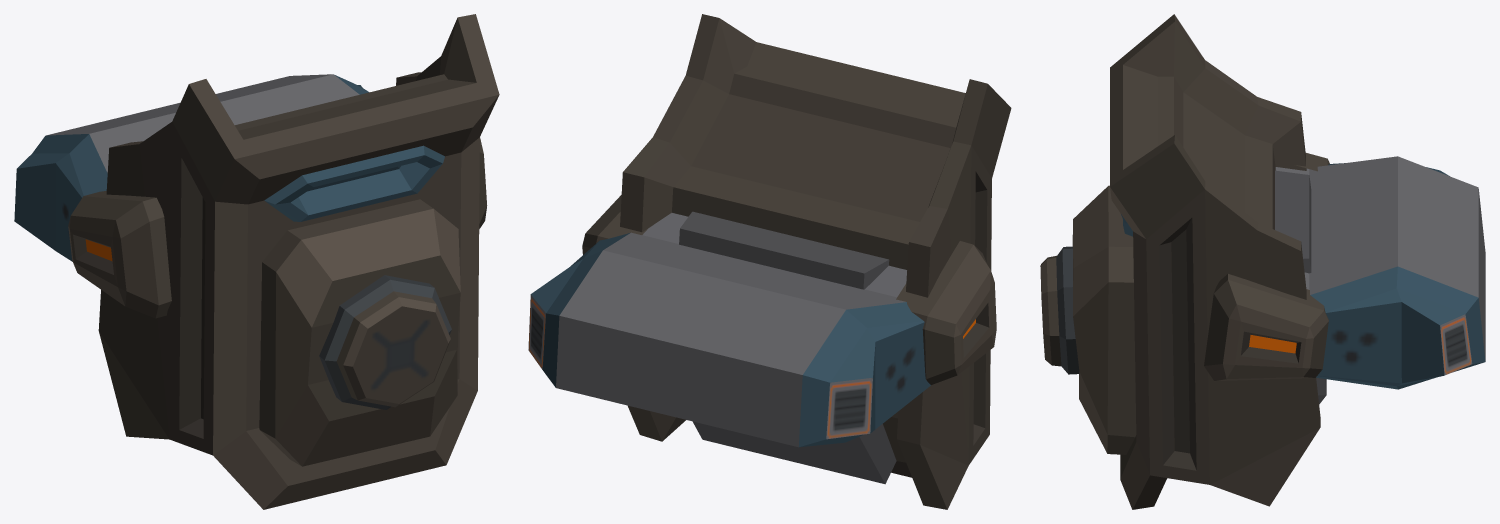
The model's file is SM_Mech_Leg_01_Armor_Kneepad_06.fbx.
3 views of the same model, side by side, from view 1: azimuth 30°, elevation 25°; view 2: azimuth 150°, elevation 25°; view 3: azimuth 270°, elevation 25° (orthographic). The views are drawn at different scales.
Parts seen in each view (by area): view 1: SM_Mech_Leg_01_Armor_Kneepad_06; view 2: SM_Mech_Leg_01_Armor_Kneepad_06; view 3: SM_Mech_Leg_01_Armor_Kneepad_06.
Boxes of the visible parts, <box> form: SM_Mech_Leg_01_Armor_Kneepad_06: <box>14,14,499,509</box>; SM_Mech_Leg_01_Armor_Kneepad_06: <box>528,14,1011,509</box>; SM_Mech_Leg_01_Armor_Kneepad_06: <box>1040,14,1485,509</box>.
Bounding box in the file's own units: 68.36 × 73.11 × 74.97.
